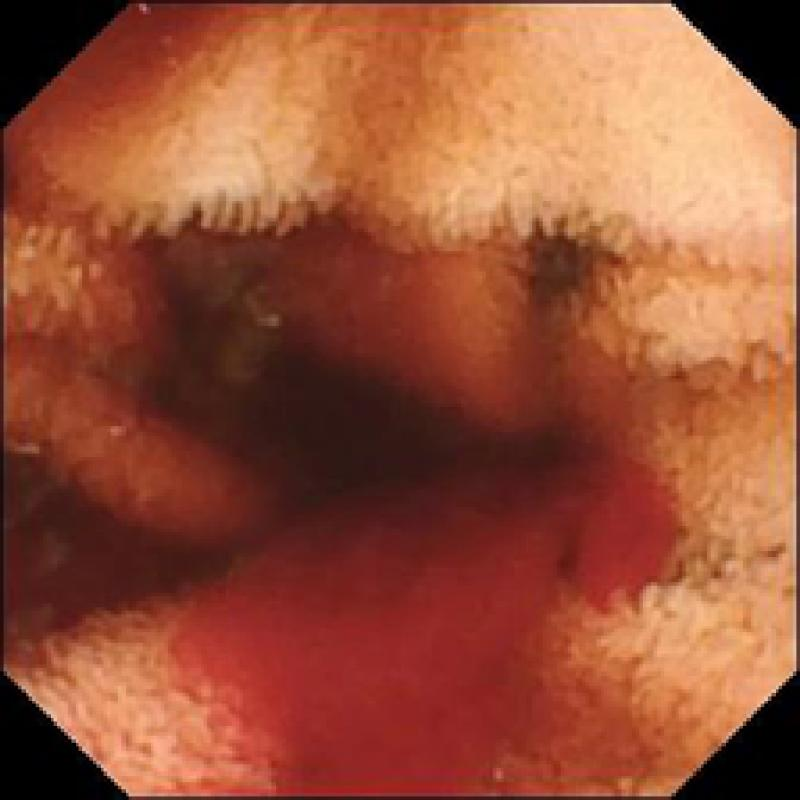bleeding: (175, 435, 675, 800)
